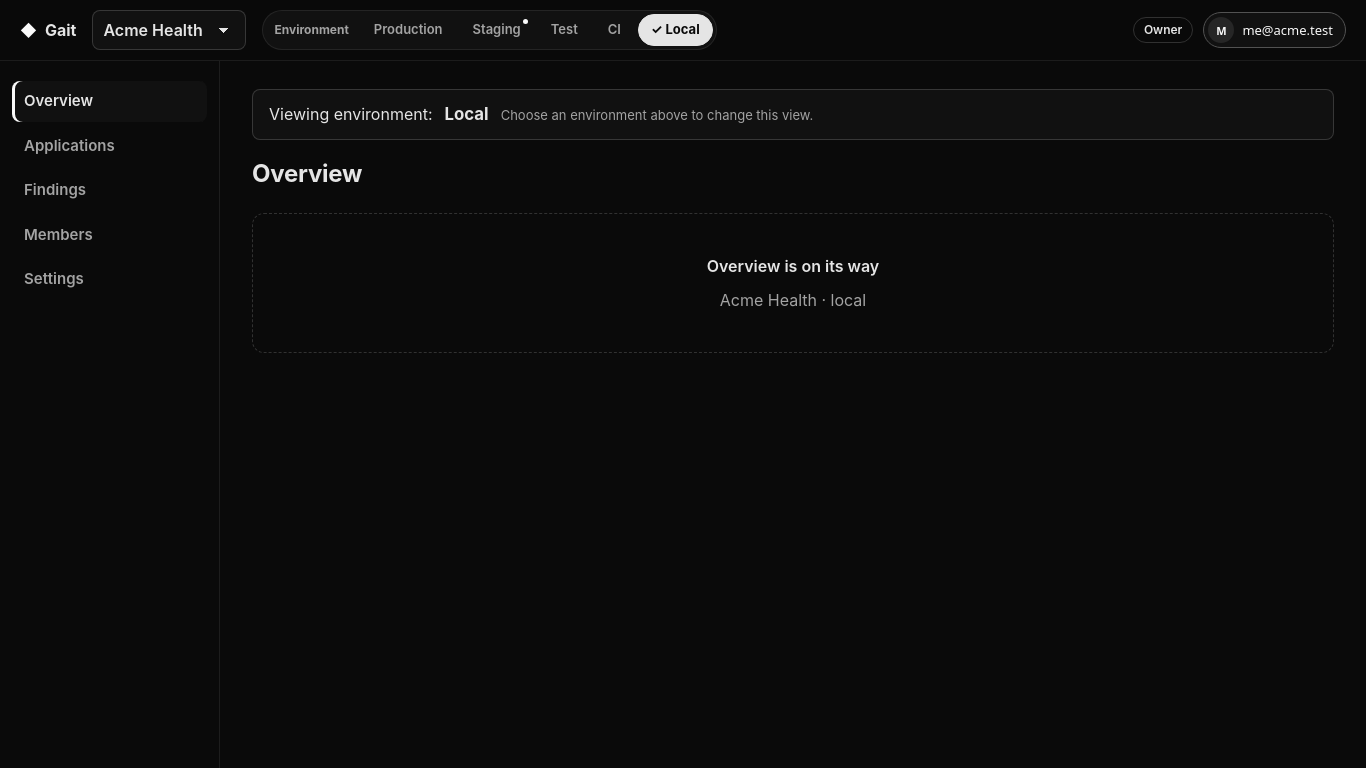
Local selection is explicit, remains selected and changes only on user choice
The image size is (1366, 768).
Expected: the text "Viewing environment: Local Choose an environment above to change this view." is shown, [252,89,1334,140]
Expected: the button "✓ Local" is shown, [638,14,713,46]
Click the button "Production" at (408, 30), box [361,14,456,46]
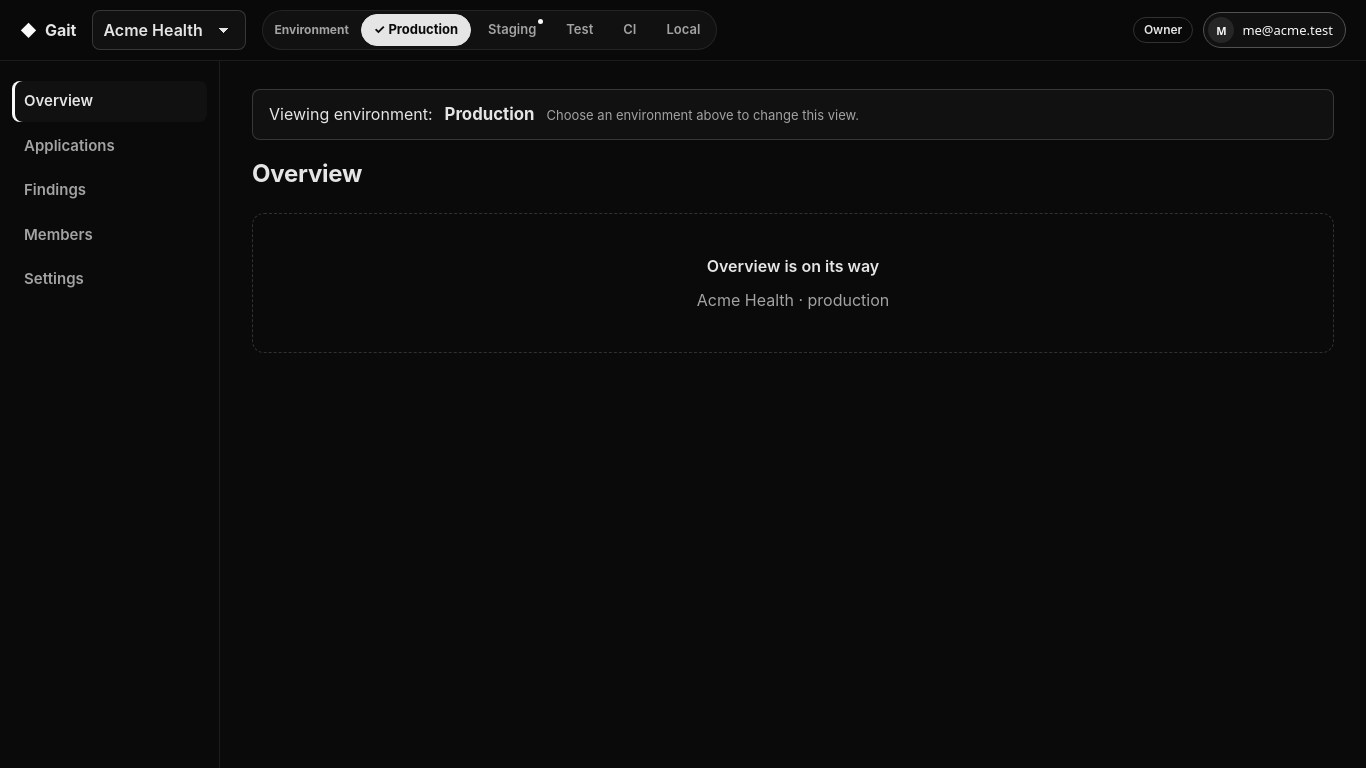
Expected: the text "Viewing environment:" shows "Production", [444,104,534,124]
